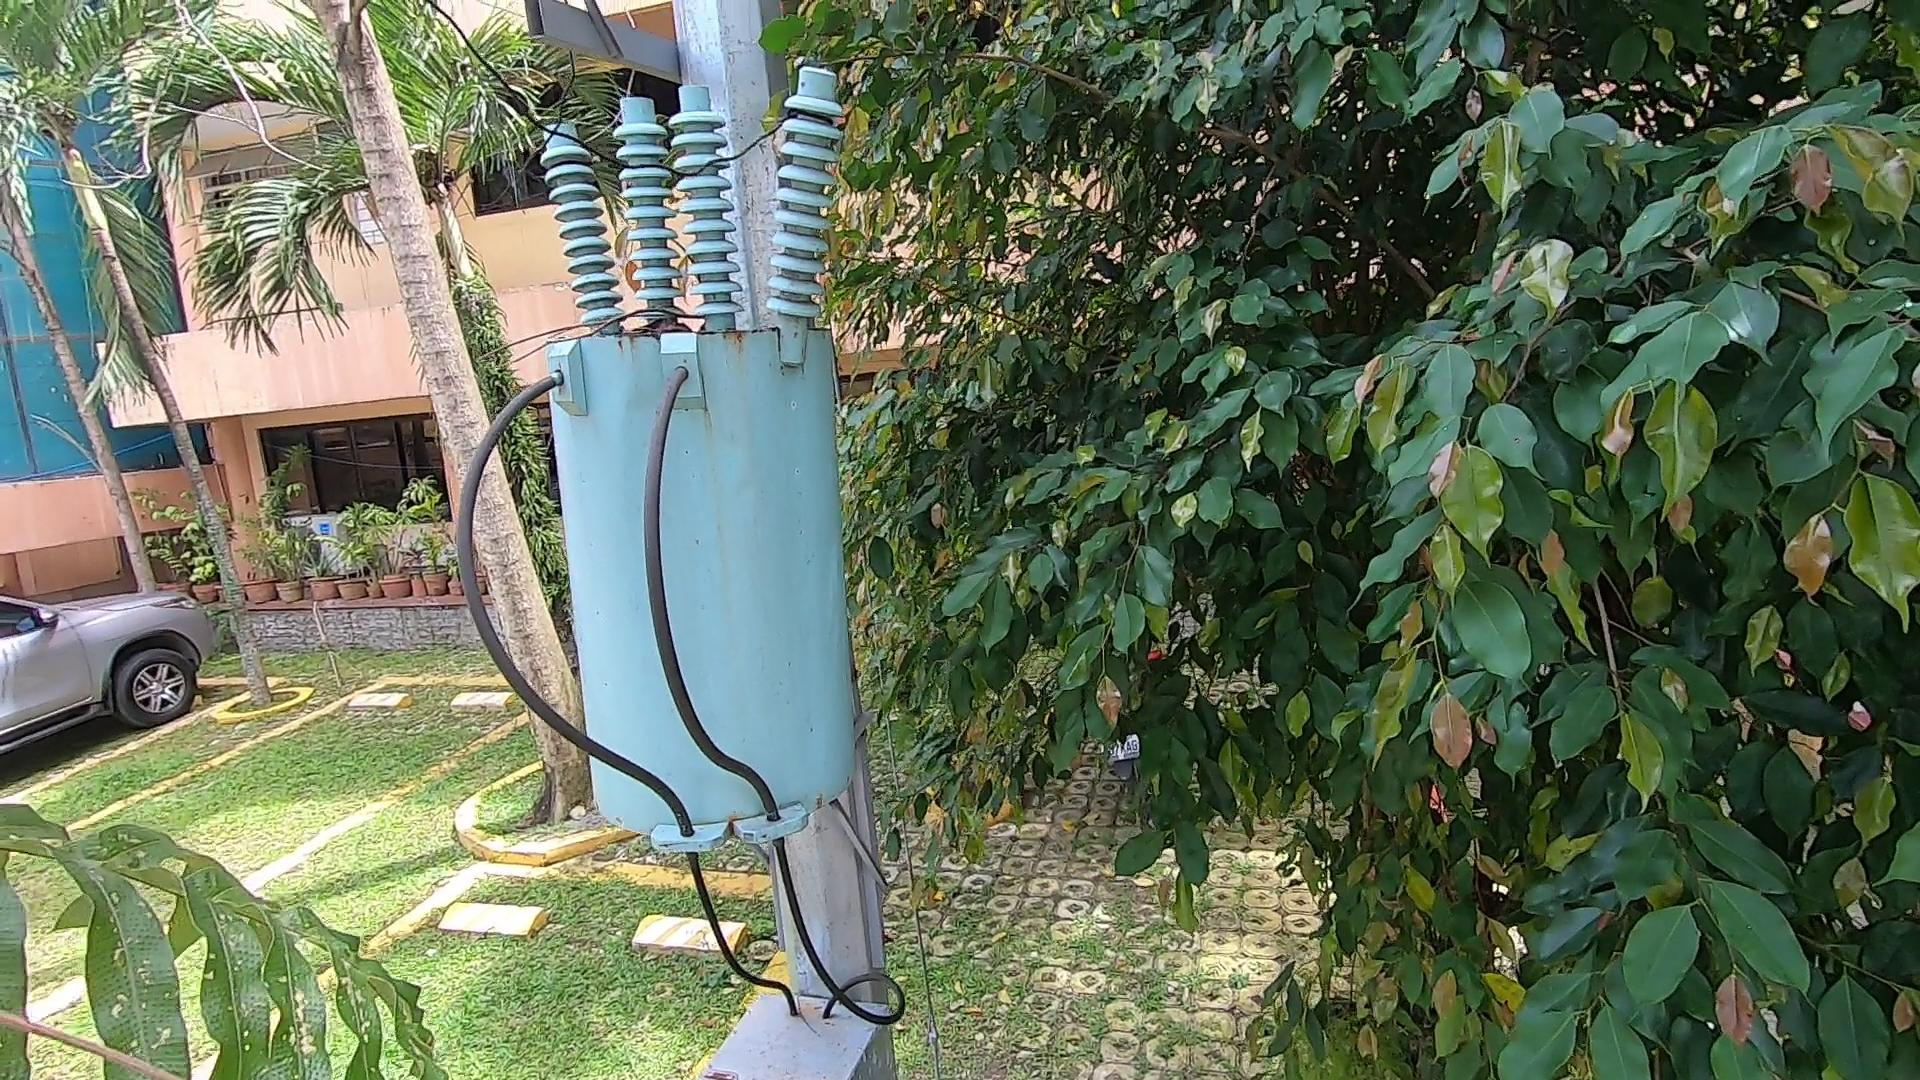branch with leaves: (744, 18, 836, 132)
tree branch: (467, 277, 727, 330)
